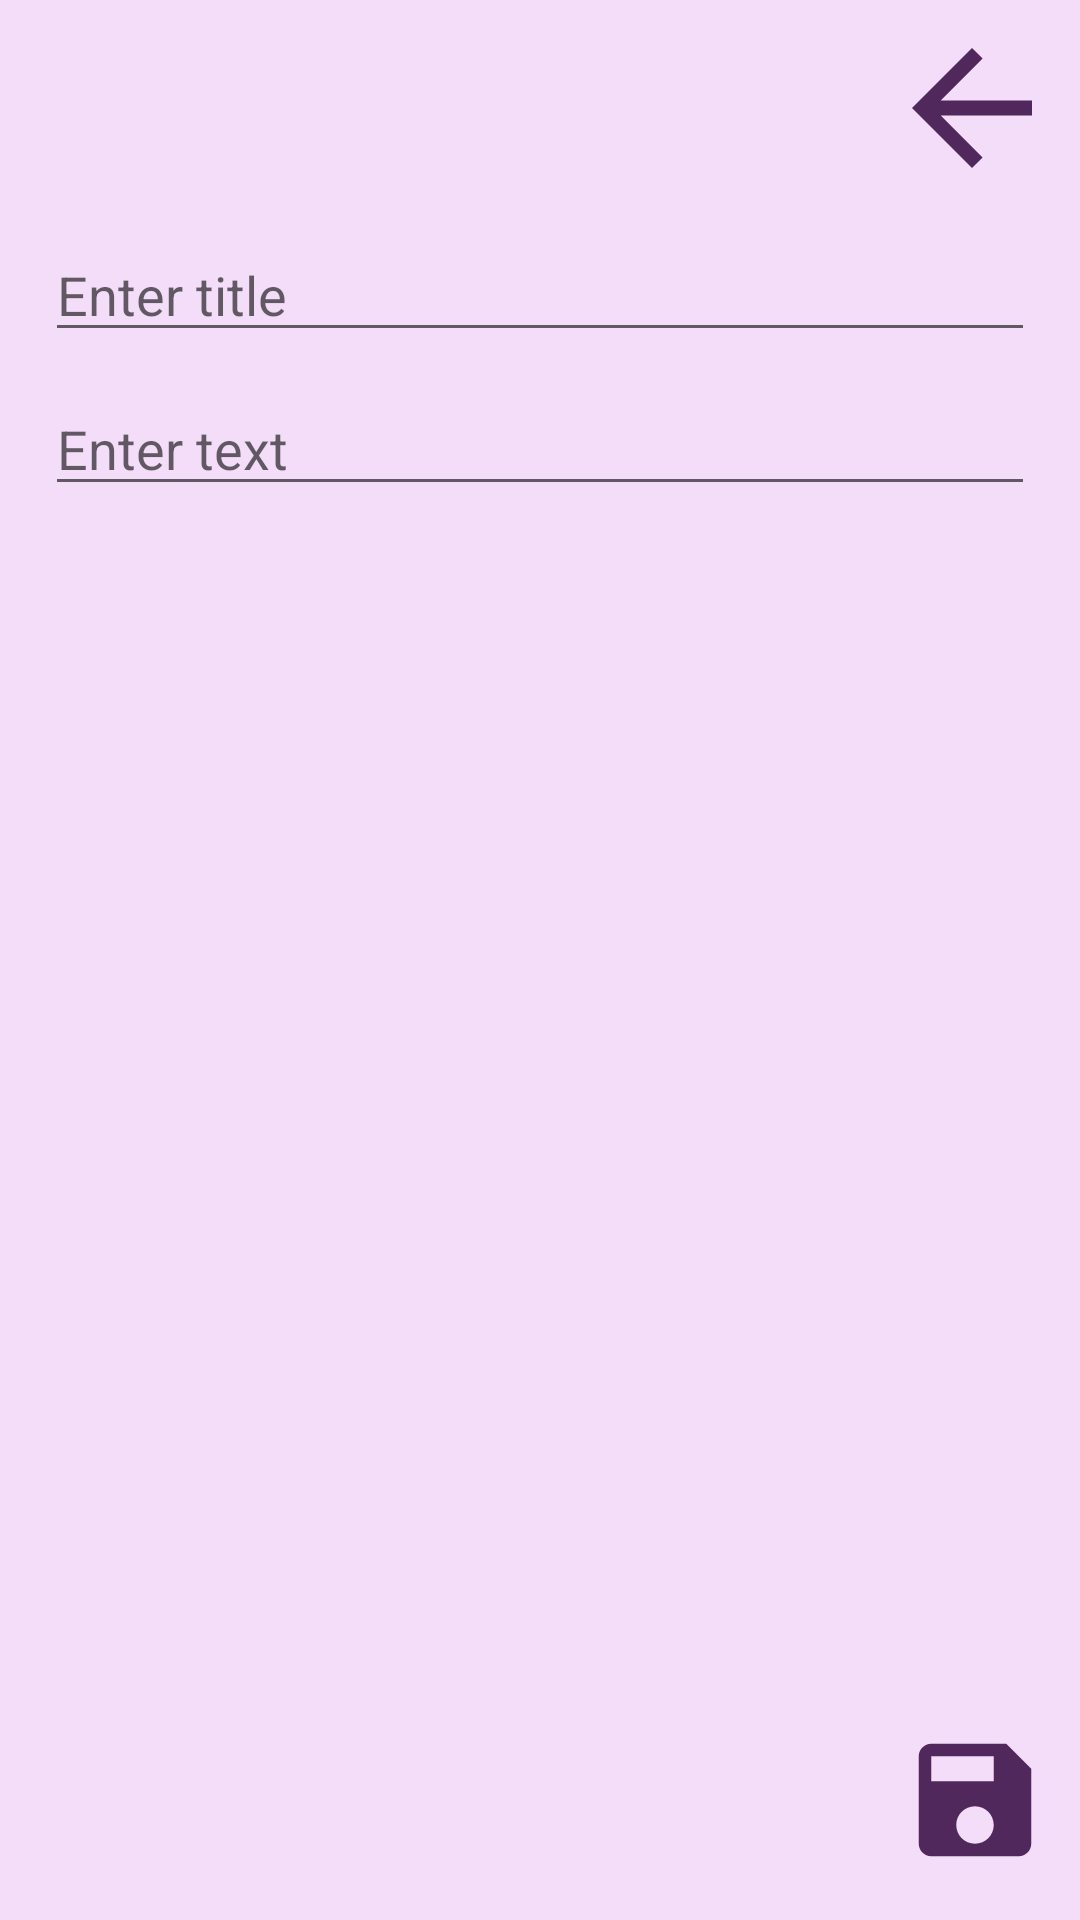

Screen size 1080 x 1920. Icon name, then its box in pixels as bbox(x1, y1, x2, y2):
arrow back: bbox(912, 48, 1032, 168)
save: bbox(918, 1743, 1032, 1857)
